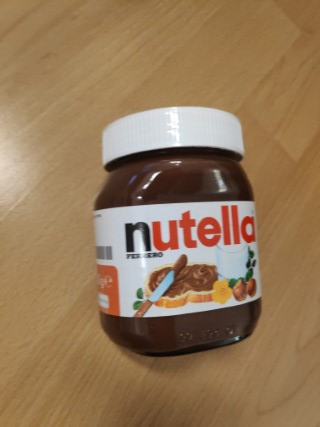nutella: (91, 104, 265, 359)
